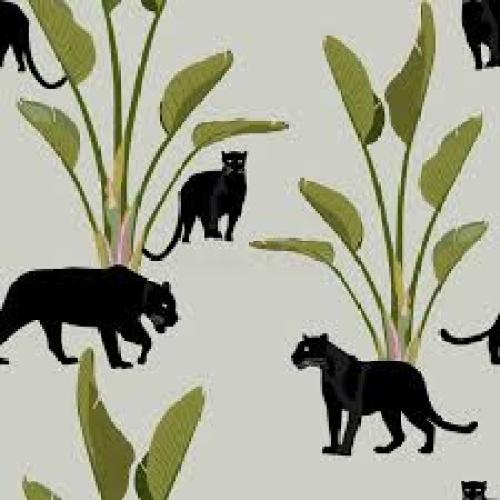panther-endangered: (289, 329, 478, 458), (0, 258, 181, 372), (139, 150, 254, 260), (456, 473, 494, 500)
